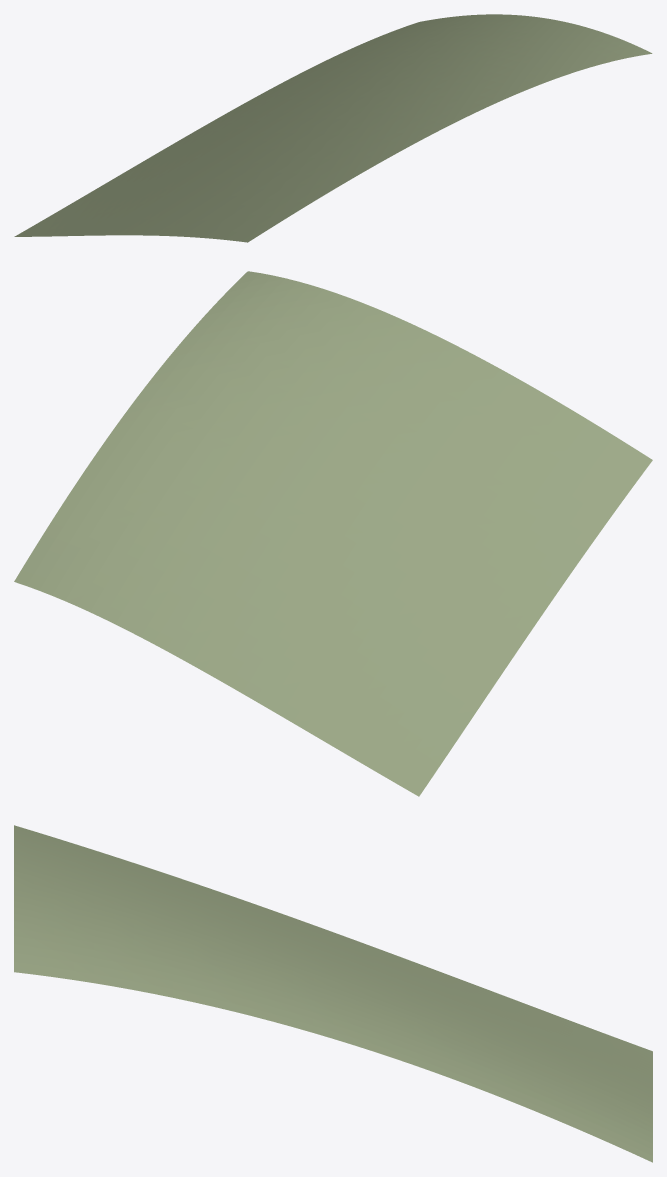
The model's file is expanse-14-3.glb.
3 views of the same model, one above another, from view 1: azimuth 30°, elevation 25°; view 2: azimuth 150°, elevation 25°; view 3: azimuth 270°, elevation 25° (orthographic). The views are drawn at different scales.
Parts seen in each view (by area): view 1: expanse-14-3; view 2: expanse-14-3; view 3: expanse-14-3.
Boxes of the visible parts, x1,y1,x2,y2 form: expanse-14-3: (14, 14, 652, 242); expanse-14-3: (14, 271, 652, 796); expanse-14-3: (14, 825, 652, 1162).
Size of the model in its own units: 256 by 156 by 256.
